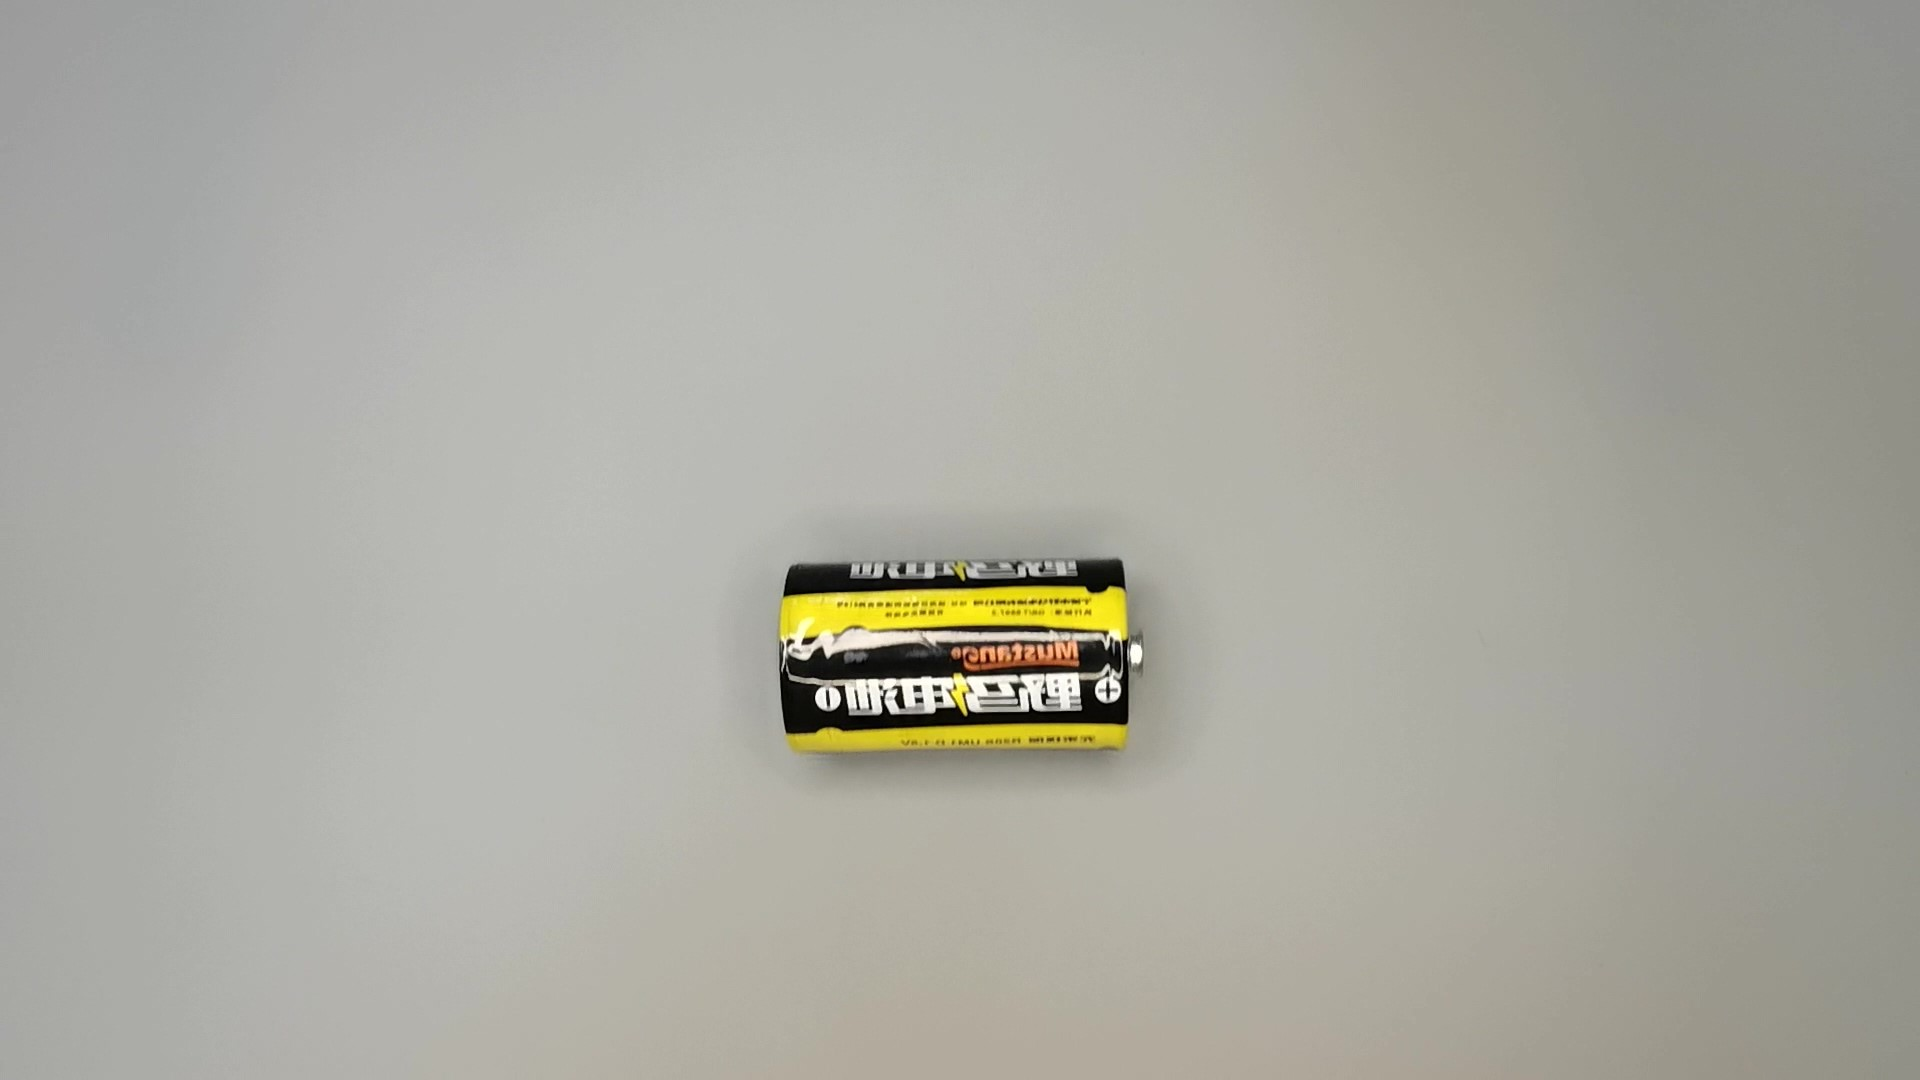battery: (774, 553, 1154, 758)
